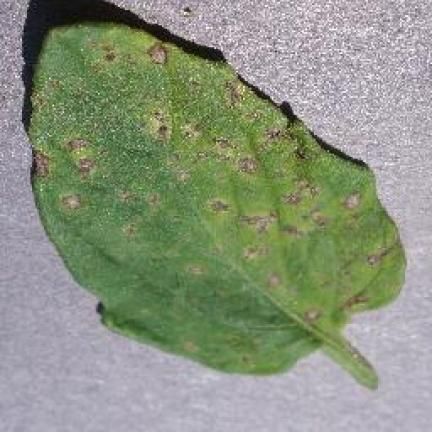leaf: (30, 24, 403, 386)
